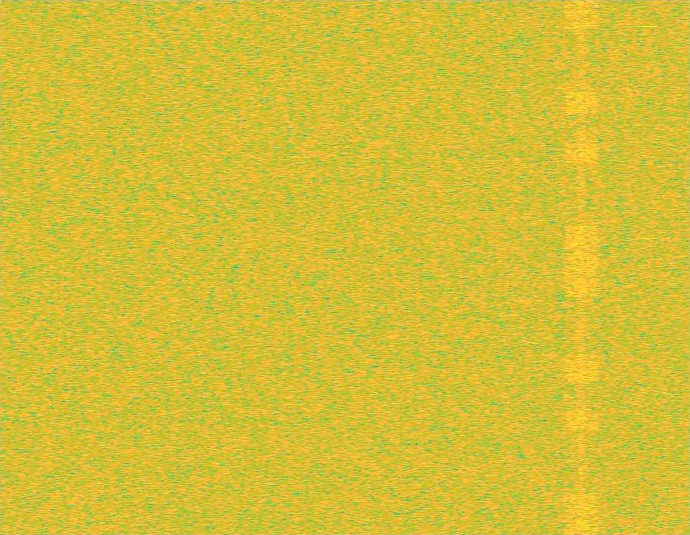DSSS: (578, 0, 585, 534)
LTE: (564, 0, 599, 534)
Radar: (640, 0, 654, 534)
